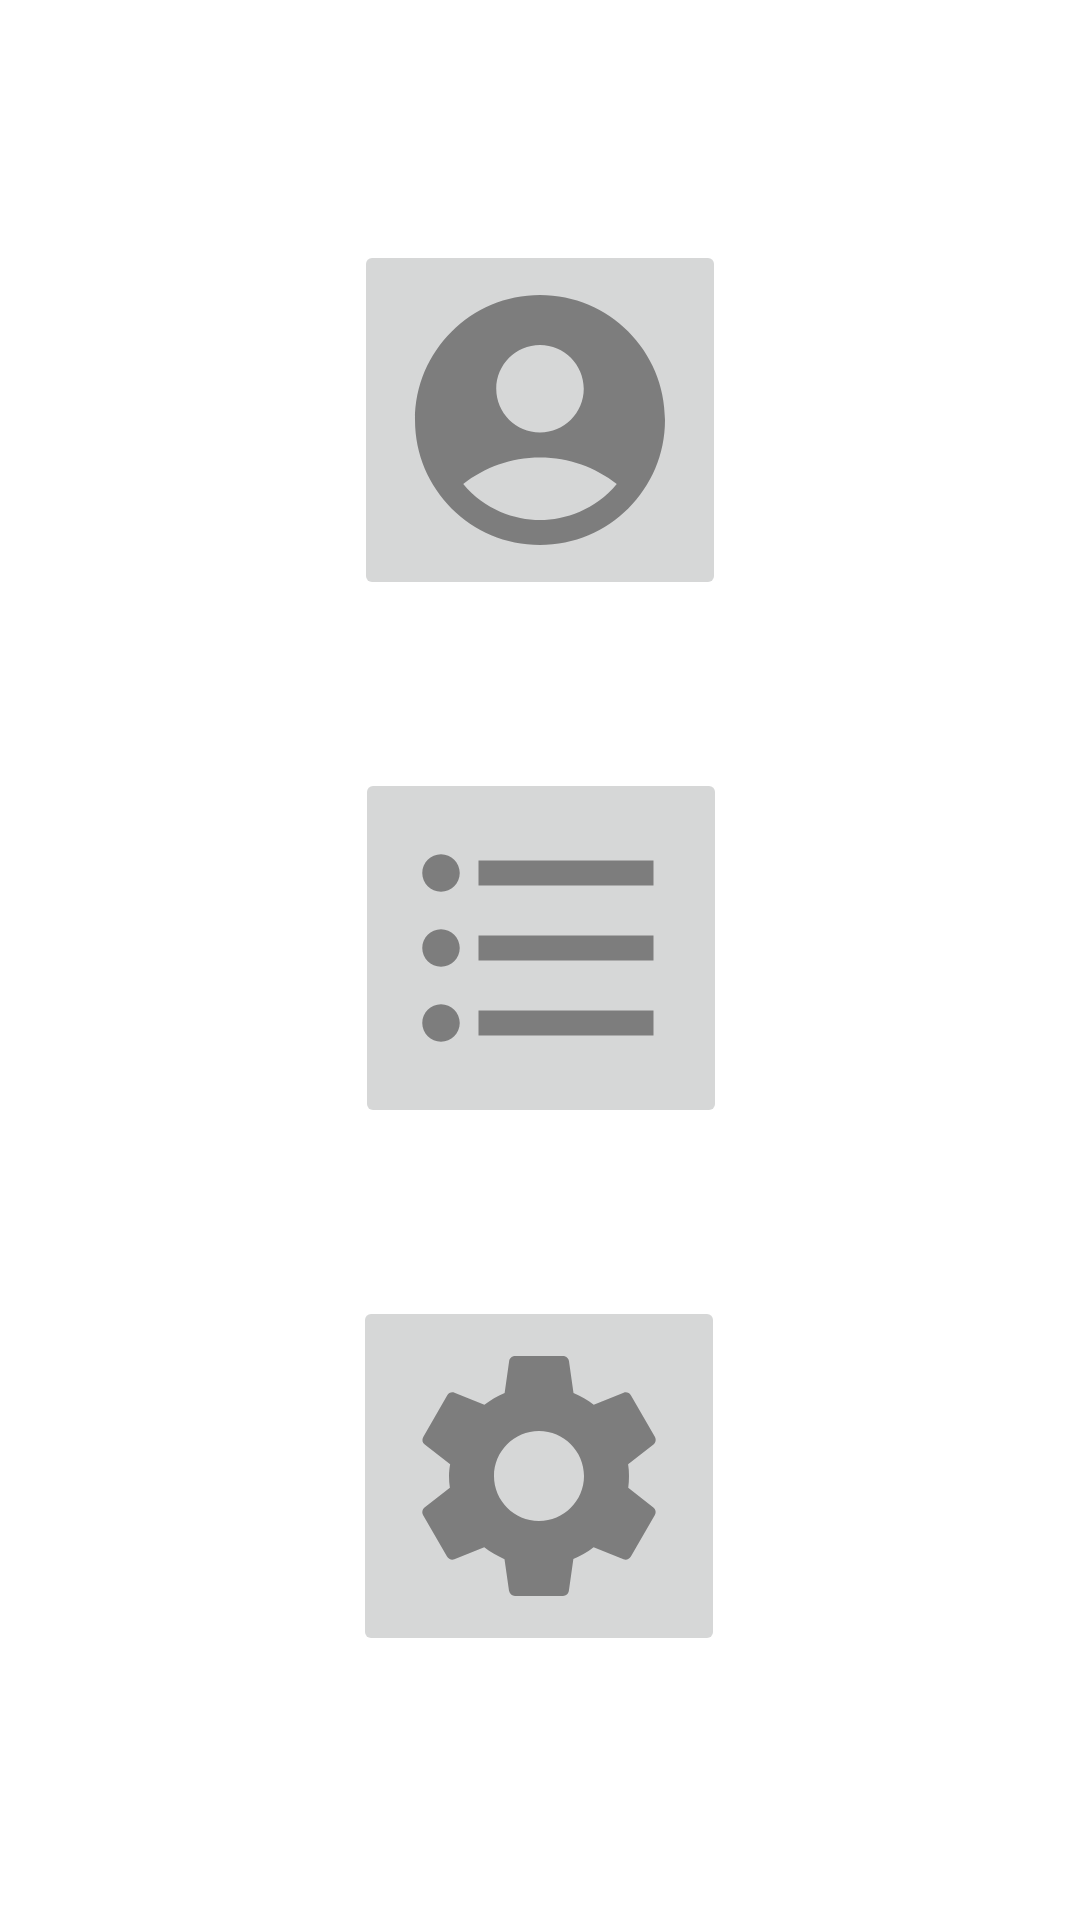

Screen size 1080px×1920px. Icon name, then its box in pixels as (x1, y1, x2, y2):
account circle: (366, 258, 714, 582)
format list bulleted: (367, 786, 715, 1110)
settings: (365, 1314, 713, 1638)
